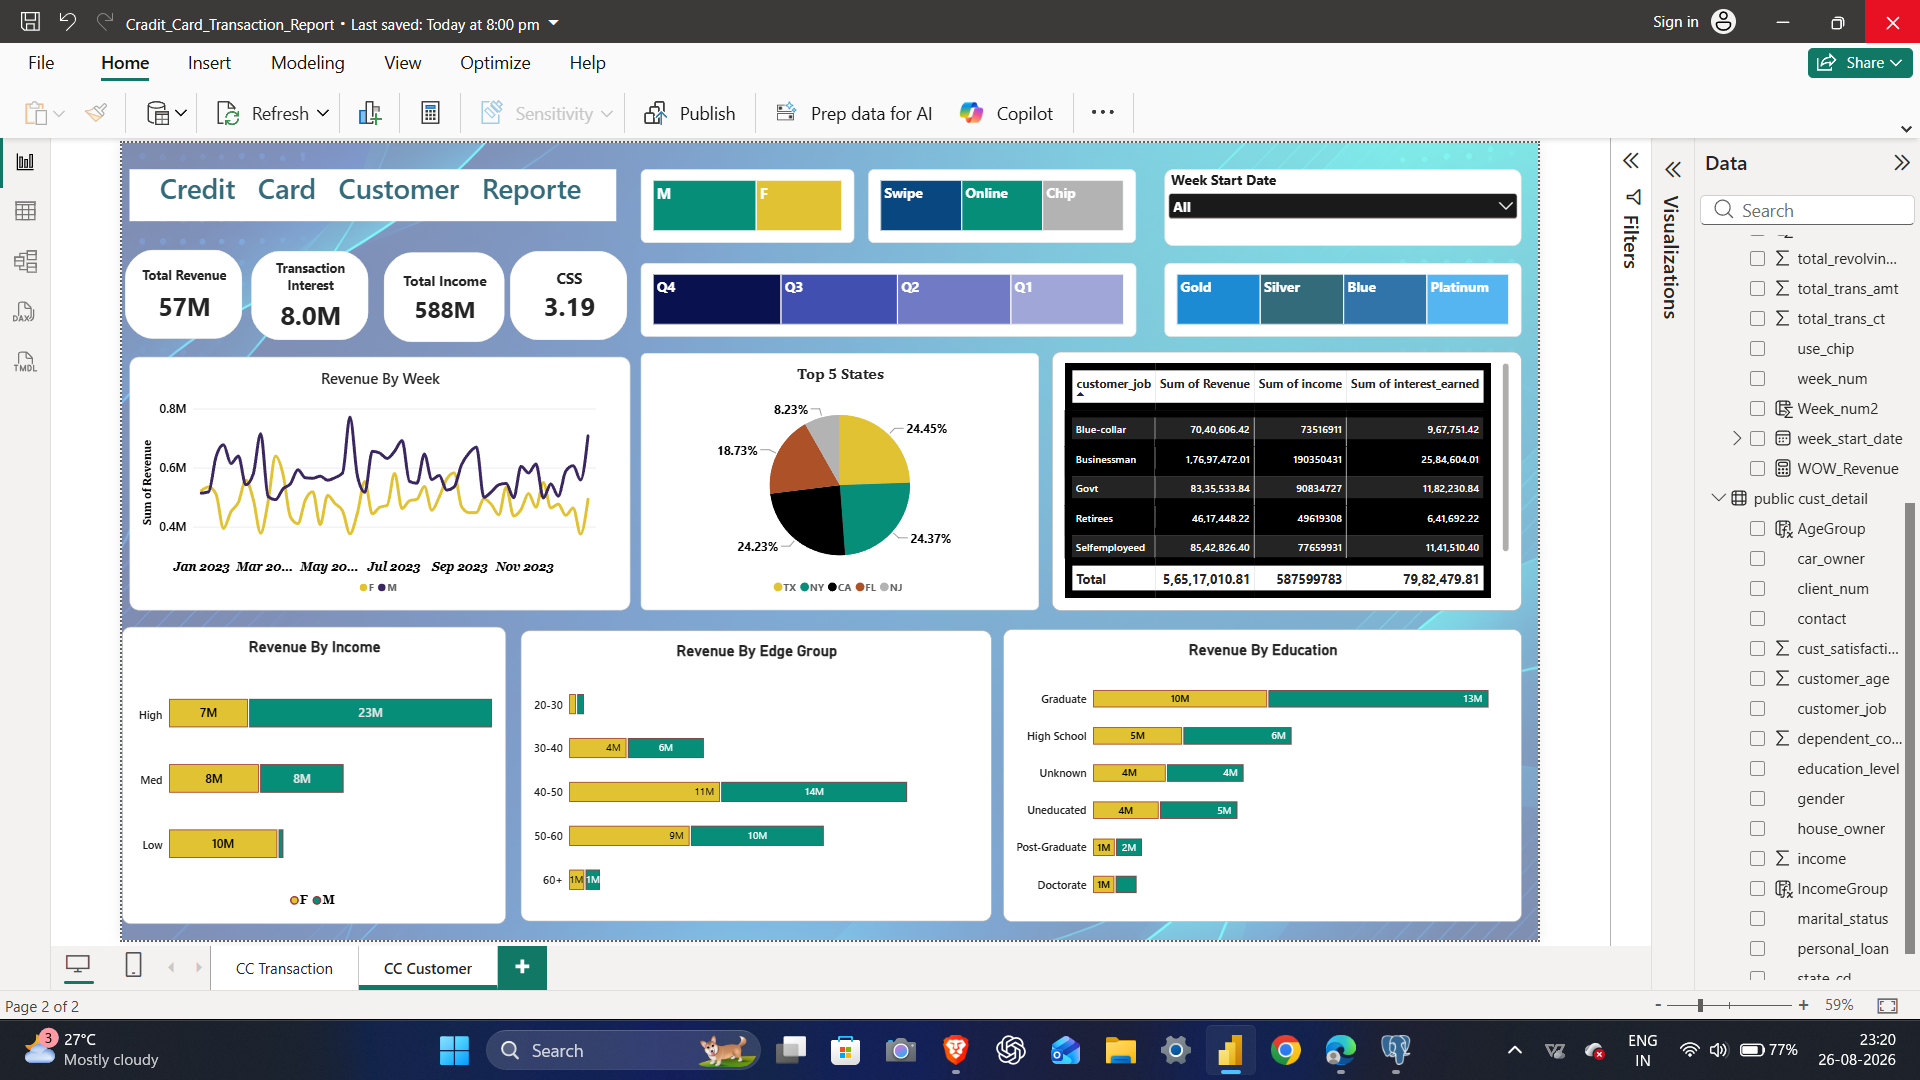

Layout of this report page (visuals, bound fields, positions):
{"tool":"powerbi","page":{"name":"CC Customer","canvas":[1920,1080],"ordinal":1},"visuals":[{"type":"textbox","box":[10,36,660,70],"z":0},{"type":"barChart","title":"Revenue By Income","fields":{"Category":["public cust_detail.IncomeGroup"],"Y":["Sum(public cc_detail.Revenue)"],"Series":["public cust_detail.gender"]},"box":[0,656.1,521.1,403.5],"z":1000},{"type":"tableEx","fields":{"Values":["public cust_detail.customer_job","Sum(public cc_detail.Revenue)","Sum(public cust_detail.income)","Sum(public cc_detail.interest_earned)"]},"box":[1261.4,282.5,636.8,350.9],"z":2000},{"type":"cardVisual","fields":{"Data":["Sum(public cc_detail.Revenue)"]},"box":[0,140,167.4,129.1],"z":3000},{"type":"cardVisual","fields":{"Data":["Sum(public cust_detail.income)"]},"box":[350,144,172,130],"z":4000},{"type":"cardVisual","fields":{"Data":["Avg(public cust_detail.cust_satisfaction_score)"]},"box":[522,142,167.4,129.1],"z":5000},{"type":"slicer","fields":{"Values":["public cc_detail.week_start_date"]},"box":[1414,36,484,104],"z":6000},{"type":"treemap","fields":{"Group":["public cc_detail.card_category"],"Values":["Avg(public cust_detail.client_num)"]},"box":[1414,162,484,100],"z":7000},{"type":"treemap","fields":{"Group":["public cc_detail.qtr"],"Values":["Avg(public cust_detail.client_num)"]},"box":[704,162,672,100],"z":9000},{"type":"treemap","fields":{"Group":["public cc_detail.use_chip"],"Values":["Avg(public cust_detail.client_num)"]},"box":[1012.3,35.1,363.2,100],"z":10000},{"type":"cardVisual","fields":{"Data":["Sum(public cc_detail.interest_earned)"]},"box":[172,142,167.4,129.1],"z":11000},{"type":"lineChart","title":"Revenue By Week","fields":{"Category":["public cc_detail.week_start_date.Variation.Date Hierarchy.Year","public cc_detail.week_start_date.Variation.Date Hierarchy.Month","public cc_detail.week_start_date.Variation.Date Hierarchy.Day"],"Y":["Sum(public cc_detail.Revenue)"],"Series":["public cust_detail.gender"]},"box":[10.5,289.5,678.9,343.9],"z":12000},{"type":"treemap","fields":{"Group":["public cust_detail.gender"],"Values":["Sum(public cc_detail.Revenue)"]},"box":[703.5,35.1,289.5,100],"z":13000},{"type":"barChart","title":"Revenue By Edge Group","fields":{"Category":["public cust_detail.AgeGroup"],"Y":["Sum(public cc_detail.Revenue)"],"Series":["public cust_detail.gender"]},"box":[540.4,661.4,638.6,394.7],"z":13001},{"type":"barChart","title":"Revenue By Education ","fields":{"Category":["public cust_detail.education_level"],"Y":["Sum(public cc_detail.Revenue)"],"Series":["public cust_detail.gender"]},"box":[1194.7,659.6,703.5,396.5],"z":13003},{"type":"pieChart","title":"Top 5 States ","fields":{"Y":["Sum(public cc_detail.Revenue)"],"Category":["public cust_detail.state_cd"]},"box":[703.5,284.2,540.4,349.1],"z":13004}]}

Visuals, with their boxes on the page's 1920x1080 design canvas (x1, y1, x2, y2). These are canvas units, not pixel positions in the 1920x1080 screenshot, which may show the page scaled, cropped or inside an application window:
textbox: left=10, top=36, right=670, bottom=106
"Revenue By Income" barChart: left=0, top=656, right=521, bottom=1060
tableEx - public cust_detail.customer_job x Sum(public cc_detail.Revenue): left=1261, top=282, right=1898, bottom=633
cardVisual - Sum(public cc_detail.Revenue): left=0, top=140, right=167, bottom=269
cardVisual - Sum(public cust_detail.income): left=350, top=144, right=522, bottom=274
cardVisual - Avg(public cust_detail.cust_satisfaction_score): left=522, top=142, right=689, bottom=271
slicer - public cc_detail.week_start_date: left=1414, top=36, right=1898, bottom=140
treemap - public cc_detail.card_category x Avg(public cust_detail.client_num): left=1414, top=162, right=1898, bottom=262
treemap - public cc_detail.qtr x Avg(public cust_detail.client_num): left=704, top=162, right=1376, bottom=262
treemap - public cc_detail.use_chip x Avg(public cust_detail.client_num): left=1012, top=35, right=1376, bottom=135
cardVisual - Sum(public cc_detail.interest_earned): left=172, top=142, right=339, bottom=271
"Revenue By Week" lineChart: left=10, top=290, right=689, bottom=633
treemap - public cust_detail.gender x Sum(public cc_detail.Revenue): left=704, top=35, right=993, bottom=135
"Revenue By Edge Group" barChart: left=540, top=661, right=1179, bottom=1056
"Revenue By Education " barChart: left=1195, top=660, right=1898, bottom=1056
"Top 5 States " pieChart: left=704, top=284, right=1244, bottom=633
